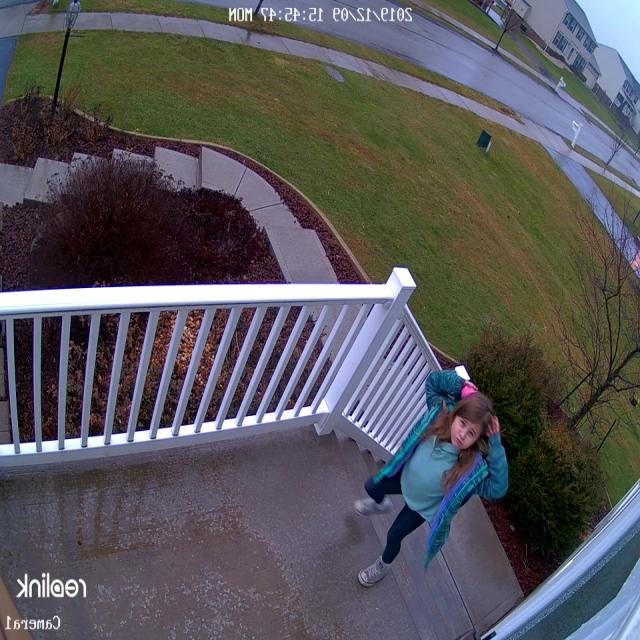child: (357, 370, 509, 606)
